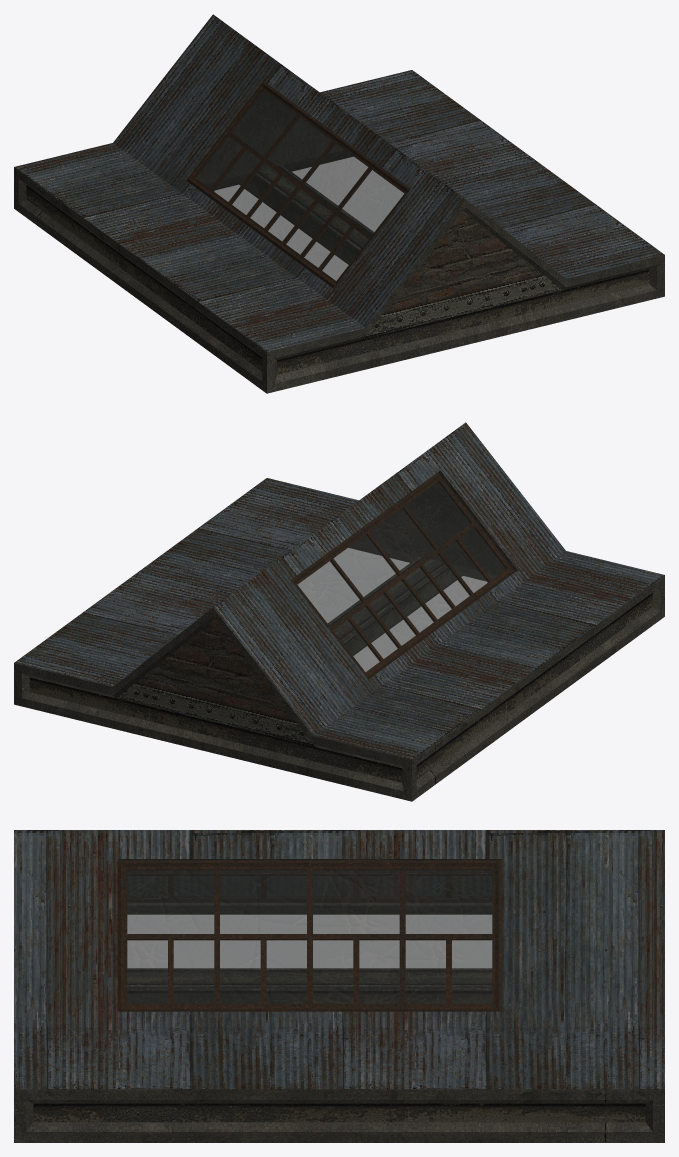
Rendered from roof_bx_1_side.glb.
The picture shows the model from 3 angles, top to bottom: view 1: azimuth 30°, elevation 25°; view 2: azimuth 150°, elevation 25°; view 3: azimuth 270°, elevation 25°; orthographic projection. The views are drawn at different scales.
Parts seen in each view (by area): view 1: roof_bx_1_side; view 2: roof_bx_1_side; view 3: roof_bx_1_side.
Part boxes in pixels (x1=…): roof_bx_1_side: x1=14, y1=14, x2=664, y2=393; roof_bx_1_side: x1=14, y1=422, x2=664, y2=801; roof_bx_1_side: x1=14, y1=830, x2=664, y2=1142.
Size of the model in its own units: 4 by 1.4 by 4.4.
Materials: 5 (5 with a texture image).
